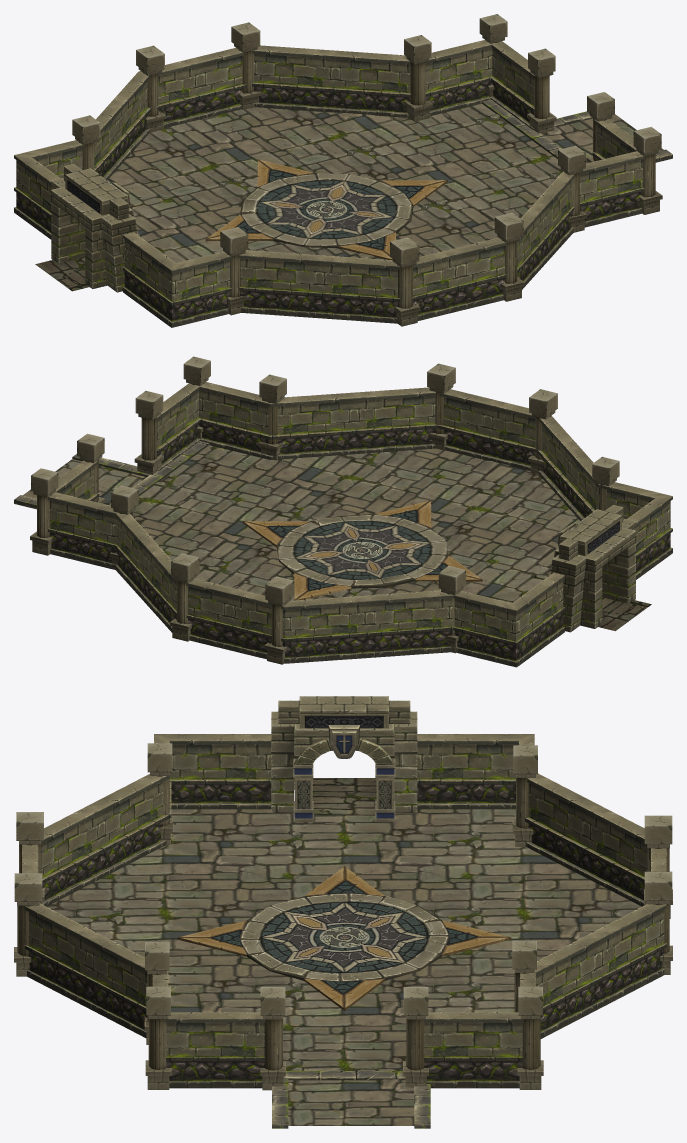
Rendered from Arena_Dimian.FBX.
The picture shows the model from 3 angles, top to bottom: view 1: azimuth 30°, elevation 25°; view 2: azimuth 150°, elevation 25°; view 3: azimuth 270°, elevation 25°; orthographic projection. The views are drawn at different scales.
Visible parts, largest first — view 1: Dimian; view 2: Dimian; view 3: Dimian.
Boxes of the visible parts, x1,y1,x2,y2 form: Dimian: (14, 14, 672, 327); Dimian: (14, 356, 672, 667); Dimian: (14, 696, 672, 1128).
Bounding box in the file's own units: 1313 × 182 × 1052.
